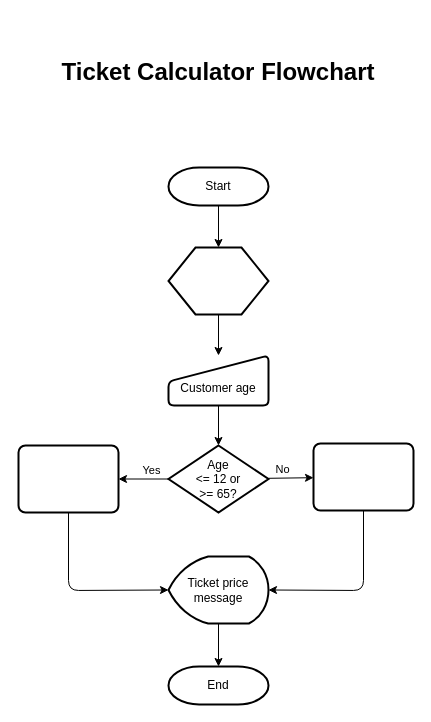
This 431x722 diagram has some shape labels left out. Each missing label, with the centre of its shape:
Initialize price and age constants: point 218,280
Ticket price = discount price: point 68,478
Ticket price = regular price: point 363,476
